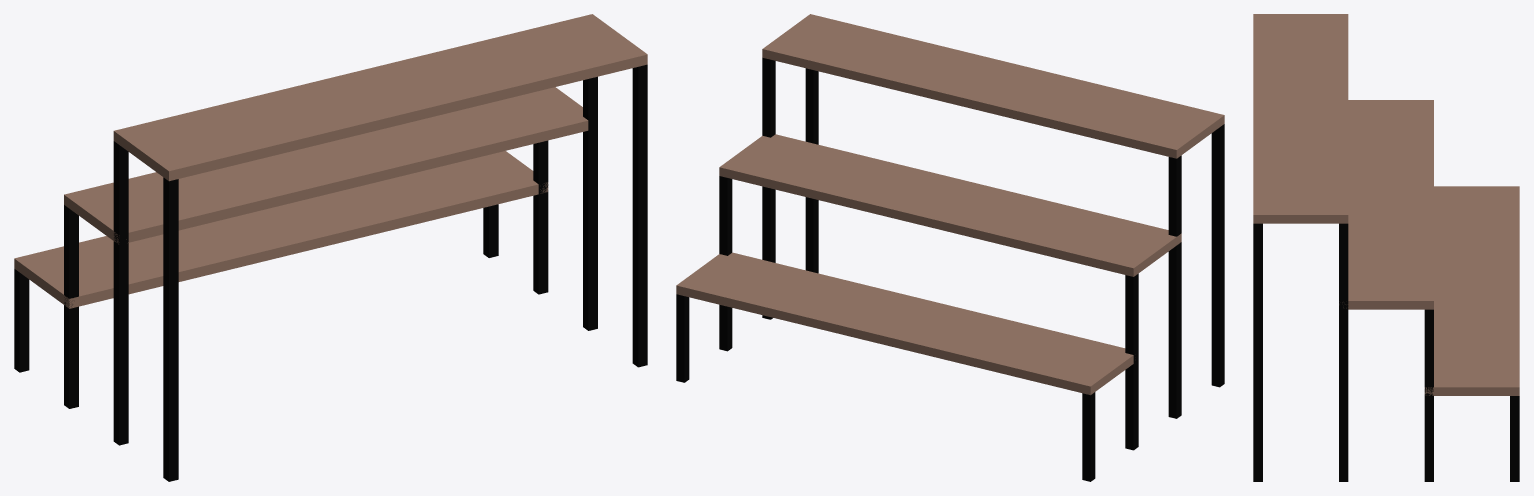
The model's file is testT.fbx.
3 views of the same model, side by side, from view 1: azimuth 30°, elevation 25°; view 2: azimuth 150°, elevation 25°; view 3: azimuth 270°, elevation 25° (orthographic). The views are drawn at different scales.
Parts seen in each view (by area): view 1: group1_pCube4; view 2: group1_pCube4; view 3: group1_pCube4.
Part boxes in pixels (x1,y1,x2,y2): group1_pCube4: (14,14,647,481); group1_pCube4: (676,14,1224,481); group1_pCube4: (1253,14,1519,481).
Size of the model in its own units: 0.1 by 0.062 by 0.056.
